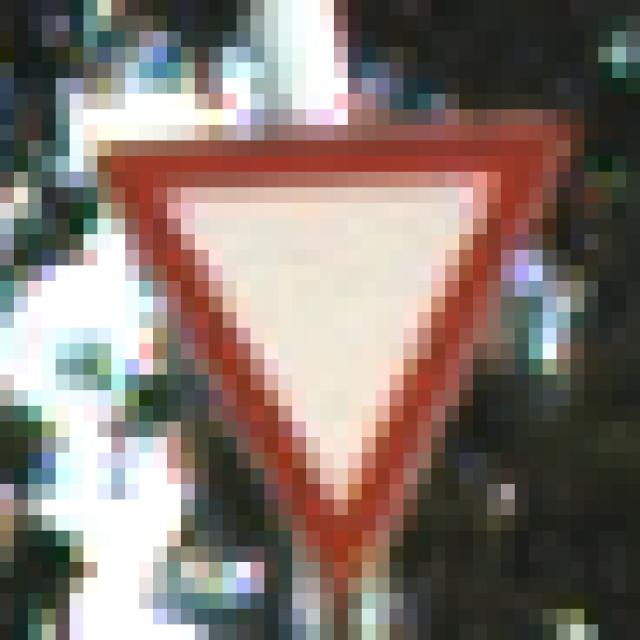Give Way: (85, 95, 572, 563)
